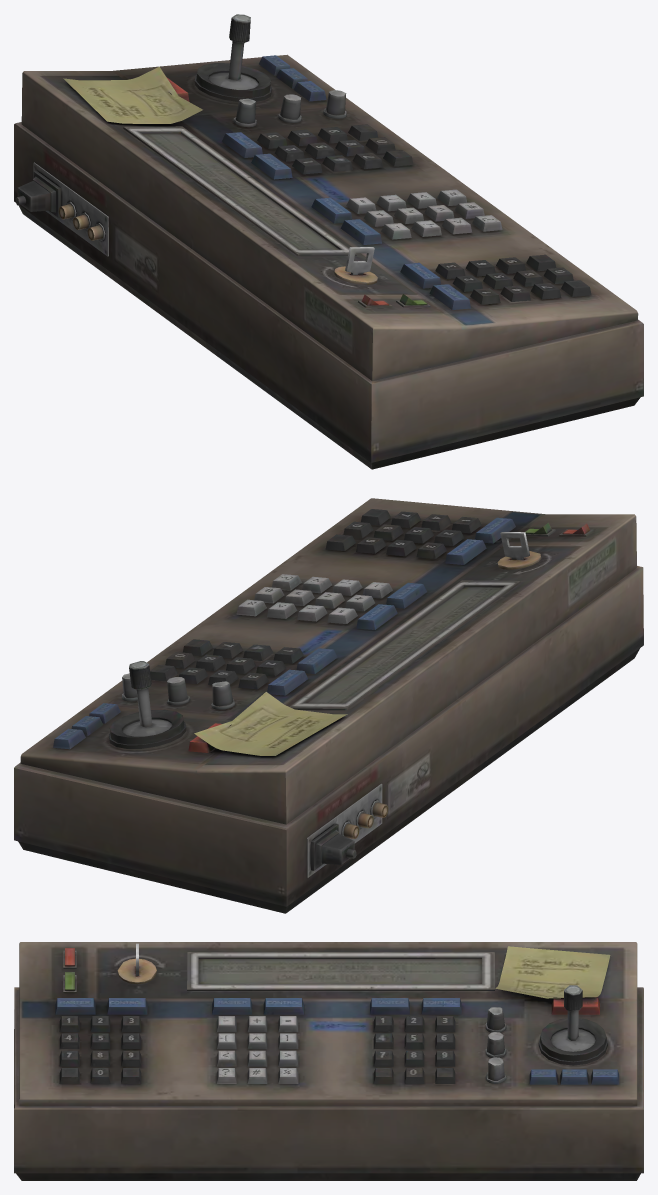
Rendered from cctv_controls.glb.
The picture shows the model from 3 angles, top to bottom: view 1: azimuth 30°, elevation 25°; view 2: azimuth 150°, elevation 25°; view 3: azimuth 270°, elevation 25°; orthographic projection. The views are drawn at different scales.
Parts seen in each view (by area): view 1: cctvControls_lod0; view 2: cctvControls_lod0; view 3: cctvControls_lod0.
Part boxes in pixels (x1,y1,x2,y2): cctvControls_lod0: (14,14,643,469); cctvControls_lod0: (14,498,643,913); cctvControls_lod0: (14,942,643,1180).
Size of the model in its own units: 0.2902 by 0.1628 by 0.5889.
1 material, 1 textured.
